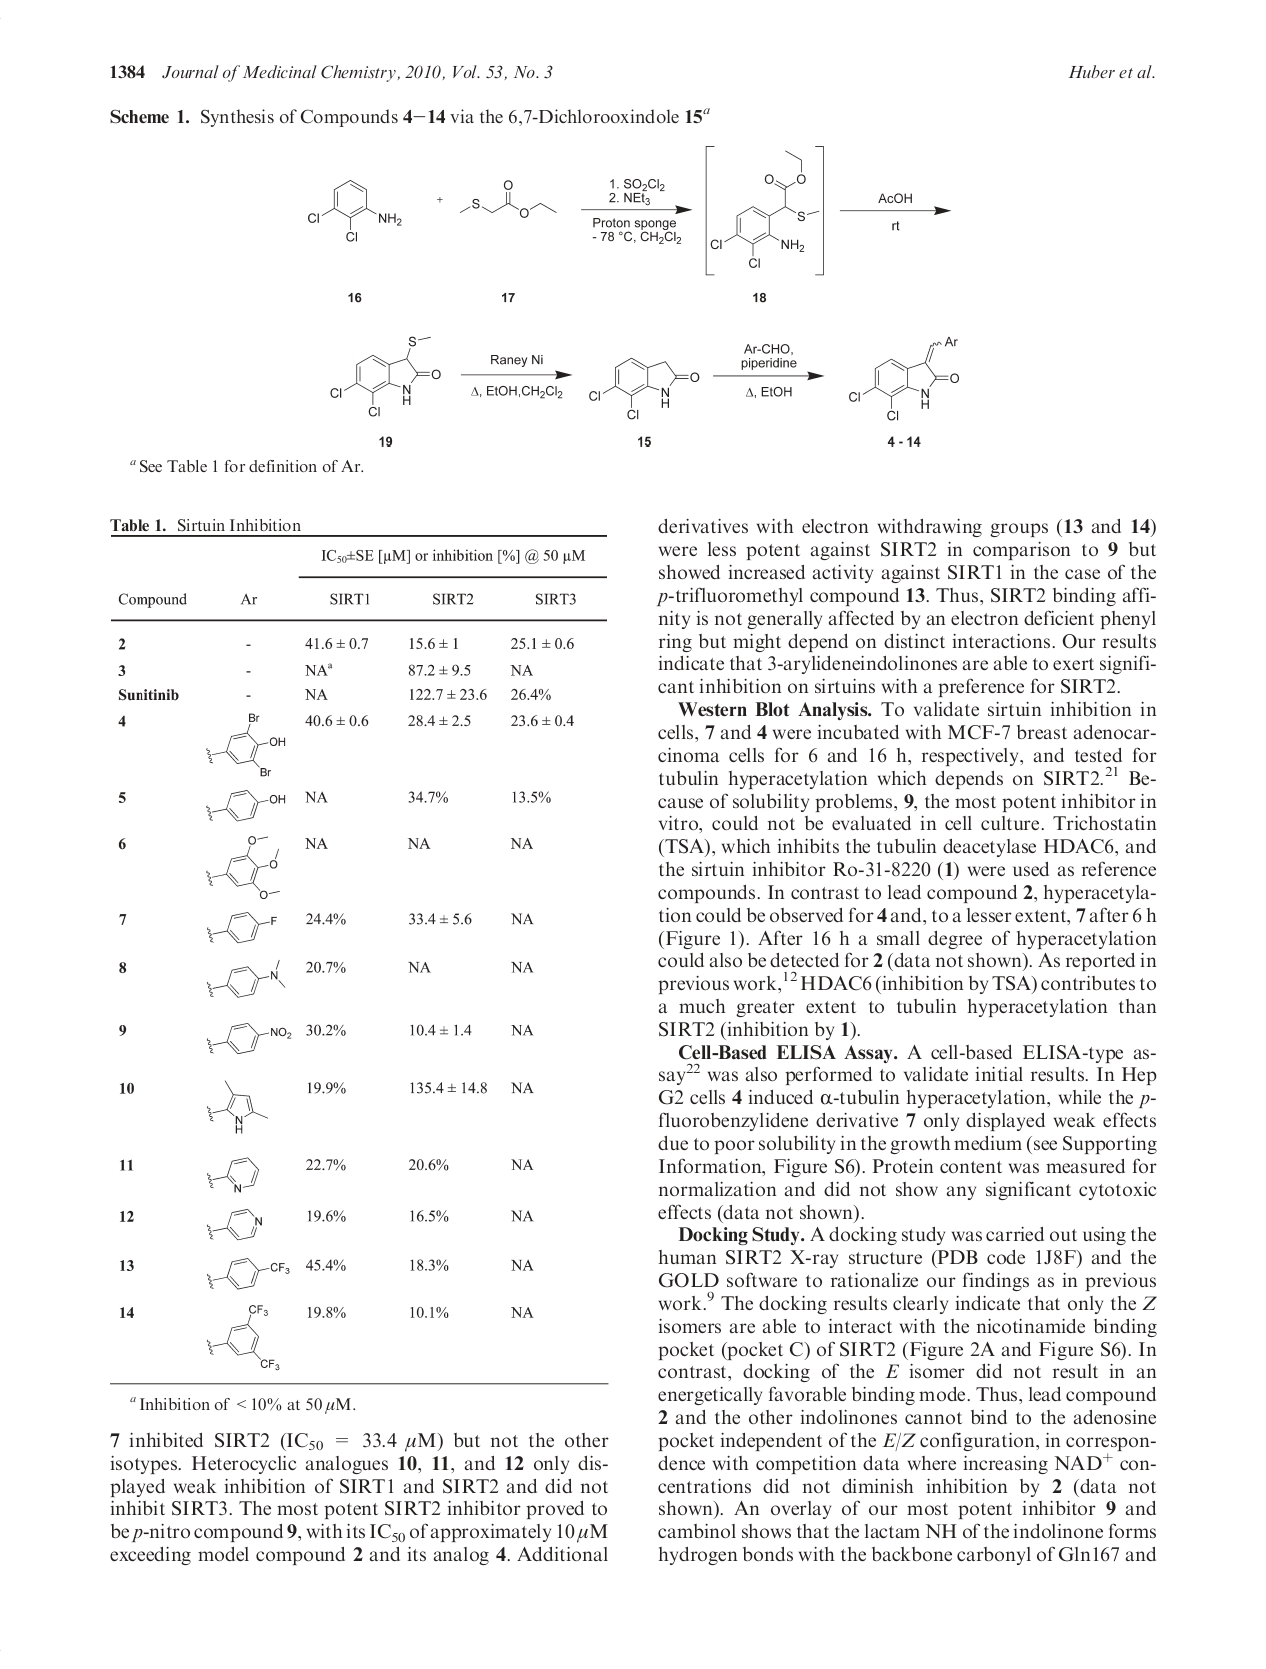exist_molecular: (710, 148, 822, 271), (846, 332, 961, 422), (328, 332, 443, 419), (588, 355, 703, 422), (305, 177, 404, 242), (203, 710, 289, 778), (205, 1301, 283, 1372), (205, 833, 283, 900), (453, 177, 559, 218), (205, 1079, 270, 1134), (205, 1021, 291, 1059), (205, 959, 287, 997), (206, 1257, 291, 1291), (203, 789, 287, 823), (203, 910, 278, 946), (206, 1154, 262, 1196), (205, 1206, 265, 1243)
